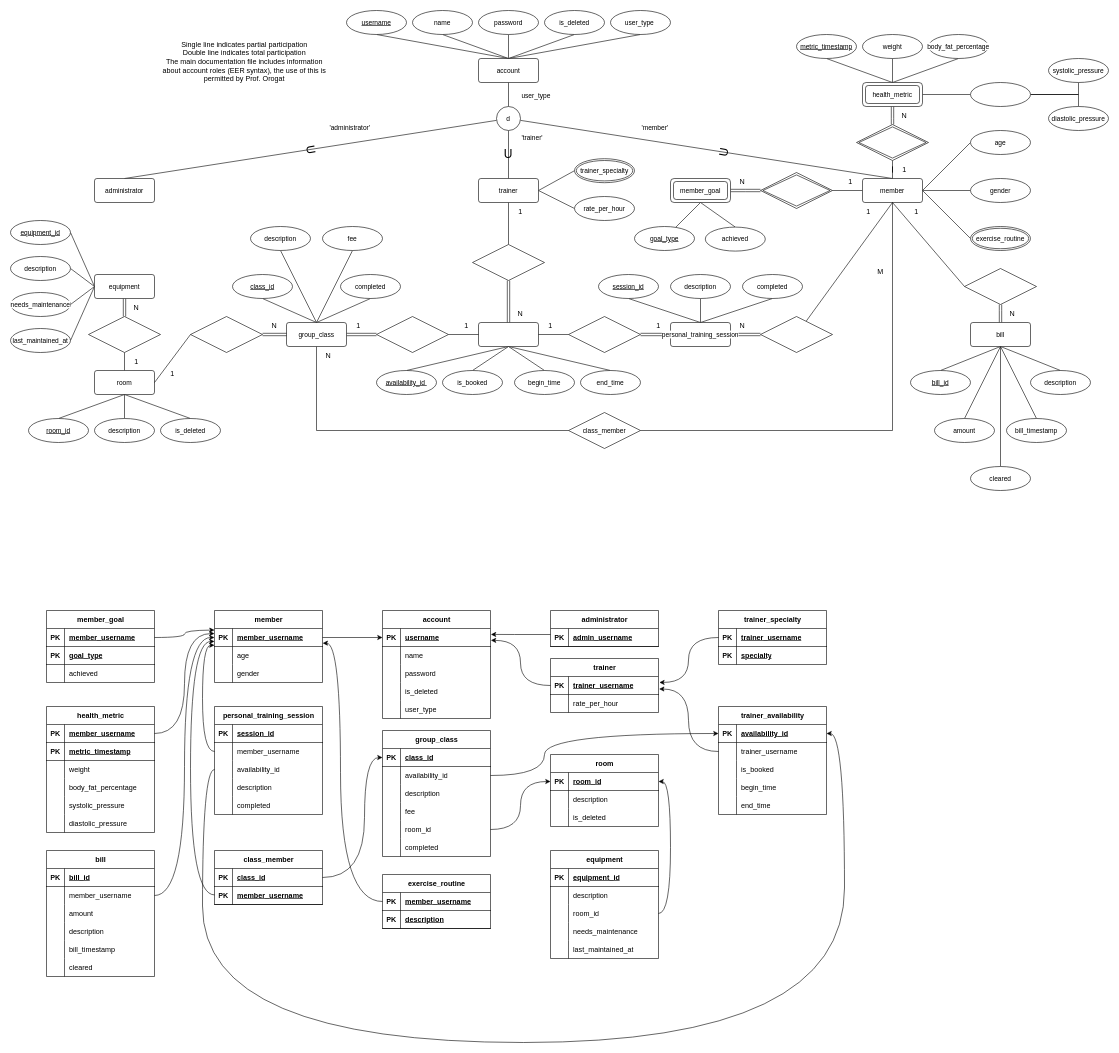
The diagram is 1119 pixels wide and 1053 high, and some of its shapes have lost their labels. Each missing label, with the centre of its shape:
available_at: point (508, 262)
blood_pressure: point (1000, 94)
booked: point (796, 334)
has_goal: point (796, 190)
is_held_during: point (412, 334)
is_payer: point (1000, 286)
located_at: point (124, 334)
room_booking: point (226, 334)
takes_place_during: point (604, 334)
trainer_avaliability: point (508, 334)
uploaded: point (892, 142)
